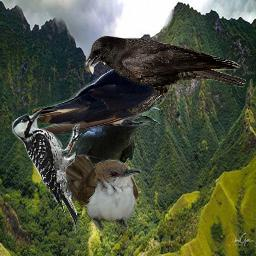Crow: (82, 35, 246, 114), (56, 102, 161, 206)
Cuckoo: (51, 153, 142, 234)
Swallow: (32, 58, 169, 135)
Woodpecker: (11, 109, 82, 236)
